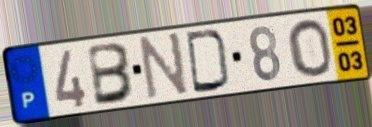4: (53, 47, 89, 110)
8: (247, 24, 283, 83)
B: (86, 41, 138, 108)
D: (183, 28, 233, 95)
N: (138, 29, 190, 102)
O: (285, 17, 335, 78)
